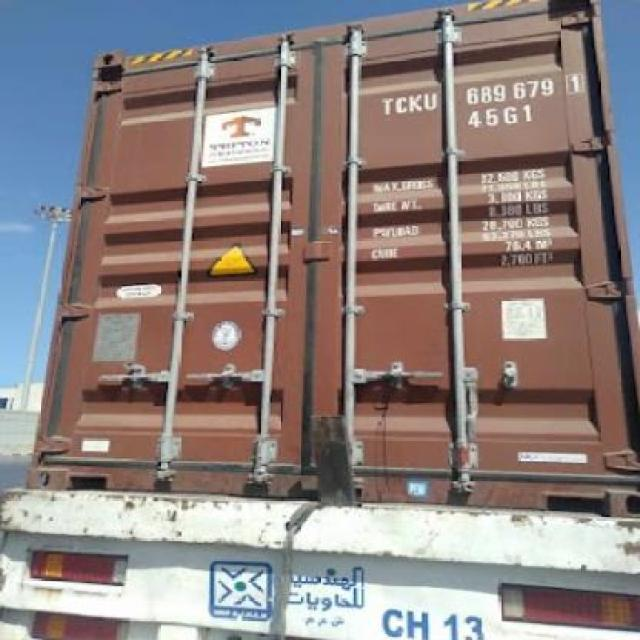ISO: (468, 106, 536, 128)
container_number: (380, 68, 582, 120)
